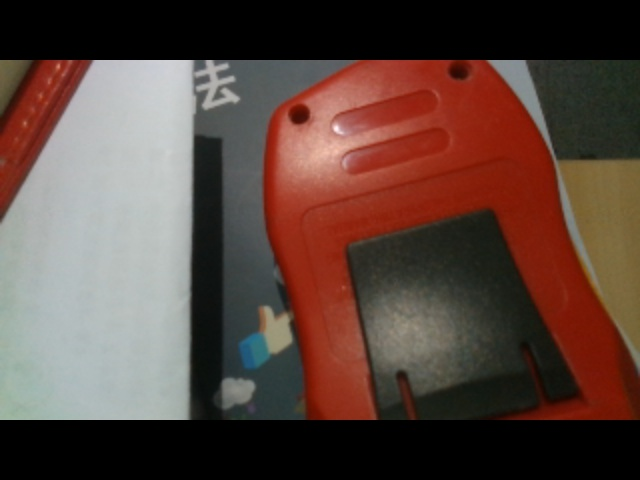Screw holes: (286, 100, 314, 128), (449, 59, 473, 82)
